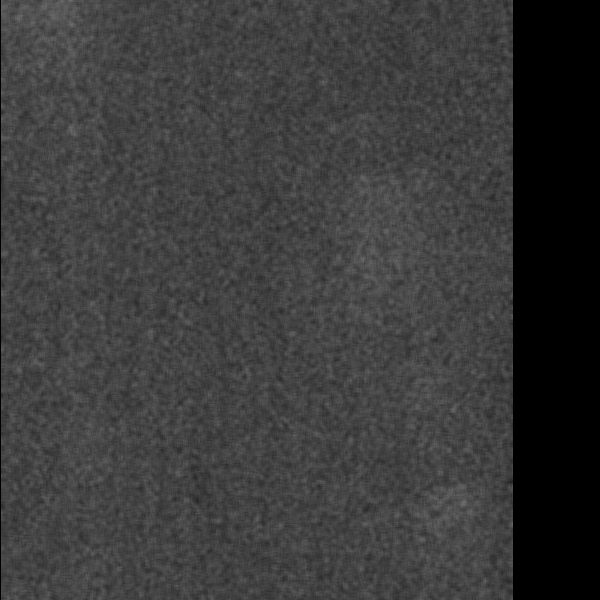spark: (84, 168, 127, 243), (362, 196, 466, 218), (150, 259, 208, 281), (79, 400, 118, 418), (93, 320, 110, 359), (203, 338, 220, 357)
